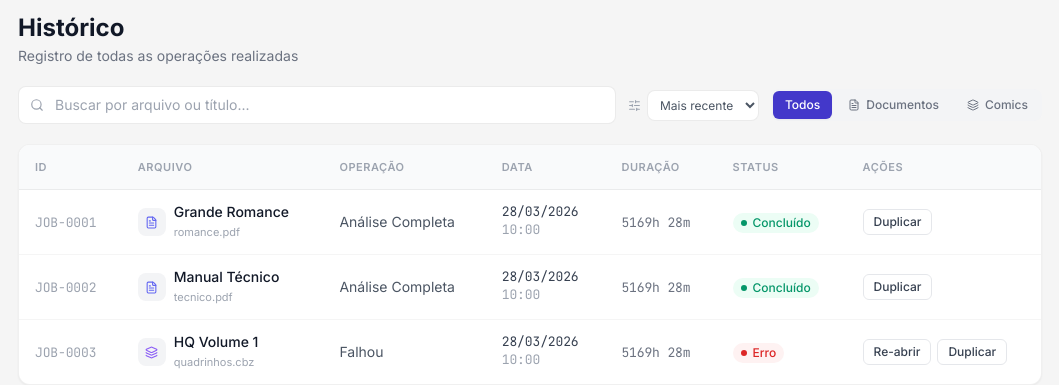
Test: HistoryPage — busca e filtros › busca filtra por título
The image size is (1059, 385).
Expected: the text "romance.pdf" is shown, [174,225,240,239]
Type "HQ Volume" into the search field with placeholder "Buscar por arquivo ou título..." at (317, 105), box [18,86,616,124]
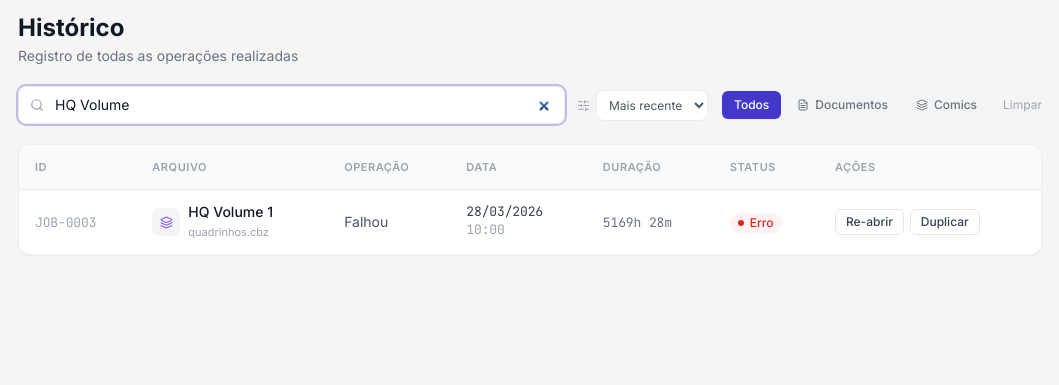
Expected: the text "quadrinhos.cbz" is shown, [188,222,273,242]
Now the text "romance.pdf" is gone
